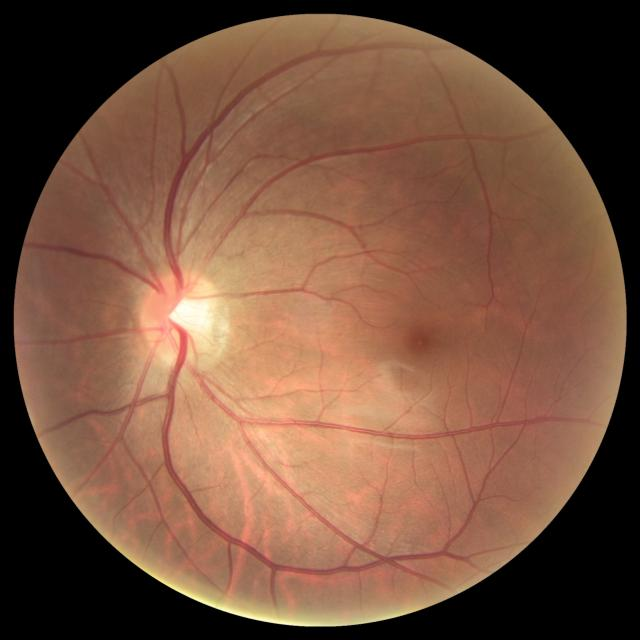OC: (167, 293, 206, 333)
OD: (138, 270, 222, 368)
